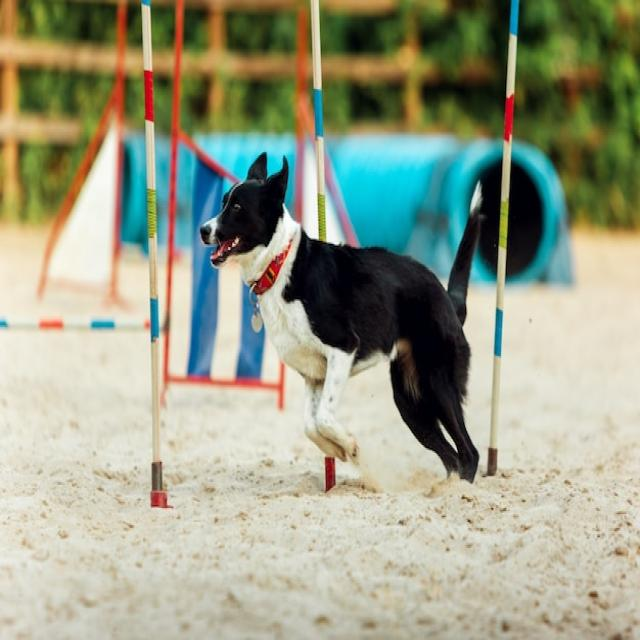Dog: (200, 152, 482, 486)
